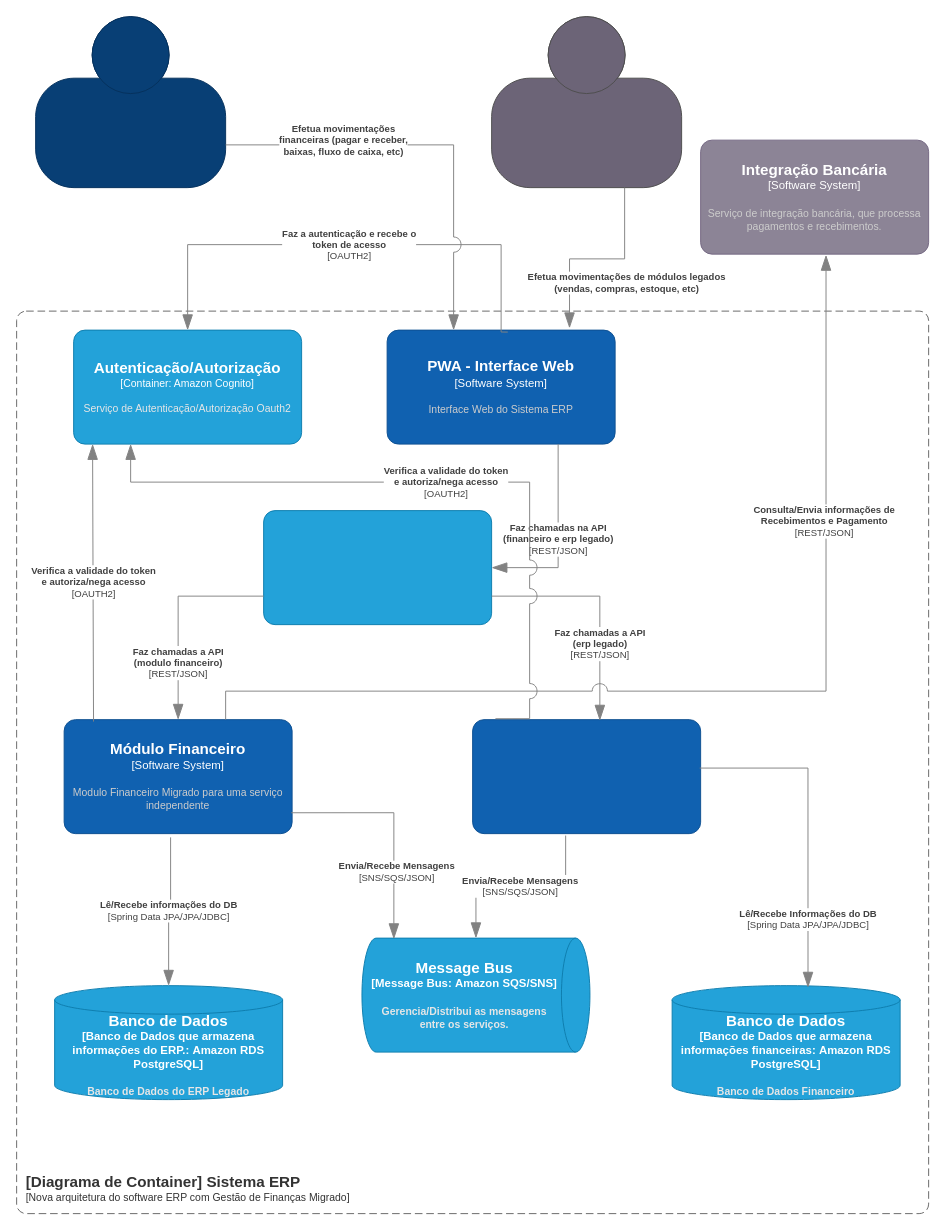
Image size: 945x1230. Some labels were removed from this diagram. The shapes that lost their labels are listed below. From the top down, each one's centre as x and y in pixels, then its label:
(x=130, y=102): Usuário do Financeiro [Person] Usuário do Financeiro
(x=586, y=102): Usuário ERP Legado [Person] Usuário ERP Legado
(x=377, y=567): API Gateway [Container: Amazon API Gateway] API Gateway da solução de ERP
(x=586, y=776): ERP Legado [Software System] Software ERP Legado
